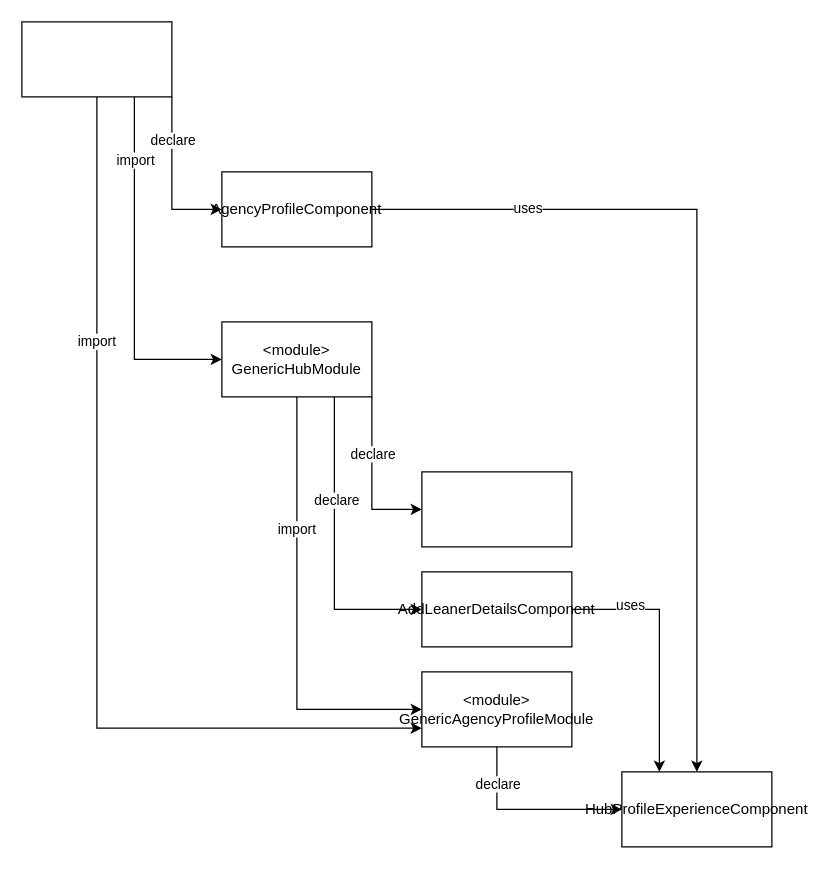
The diagram is 830 pixels wide and 869 high, and some of its shapes have lost their labels. Each missing label, with the box of its shape:
<module> AgencyProfileModule: (21, 21, 172, 97)
HubNavbarComponent: (421, 471, 572, 547)
